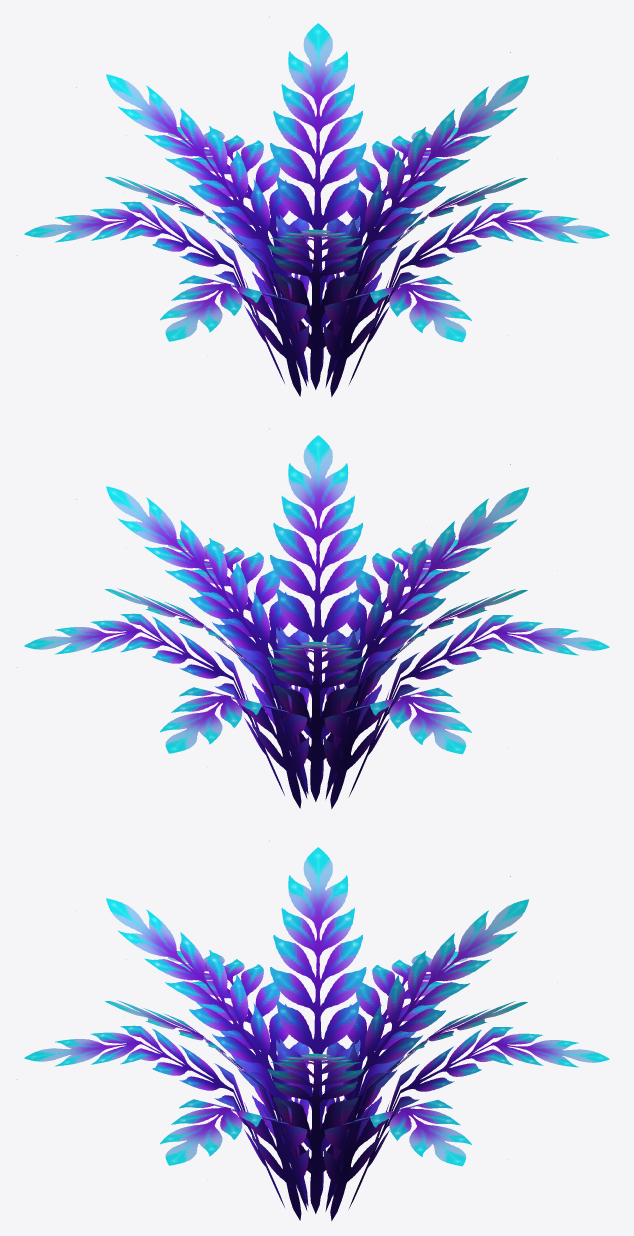
The model's file is Blue_Bush_02a.FBX.
3 renders of one model, top to bottom at view 1: azimuth 30°, elevation 25°; view 2: azimuth 150°, elevation 25°; view 3: azimuth 270°, elevation 25°, orthographic.
Visible parts, largest first — view 1: Blue_Bush_02a; view 2: Blue_Bush_02a; view 3: Blue_Bush_02a.
Part boxes in pixels (x1=…): Blue_Bush_02a: x1=24, y1=23, x2=609, y2=396; Blue_Bush_02a: x1=24, y1=435, x2=609, y2=808; Blue_Bush_02a: x1=24, y1=847, x2=609, y2=1220.
Size of the model in its own units: 203 by 103 by 214.
